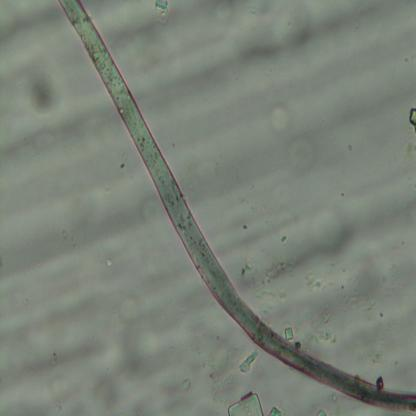Background material: (78, 329, 157, 415), (266, 210, 361, 280), (117, 0, 232, 56), (232, 18, 314, 71), (342, 254, 390, 316), (284, 133, 324, 177), (26, 69, 62, 116), (63, 113, 109, 147), (258, 94, 295, 135), (304, 306, 337, 347), (120, 289, 147, 326), (233, 257, 260, 292), (138, 191, 161, 225), (237, 347, 260, 375), (238, 212, 258, 235), (257, 288, 287, 302), (99, 247, 117, 268), (407, 105, 416, 132), (154, 1, 169, 16), (118, 152, 128, 172), (181, 378, 191, 392), (376, 374, 384, 390), (269, 406, 282, 414)
Microfibre: (58, 0, 416, 414)
